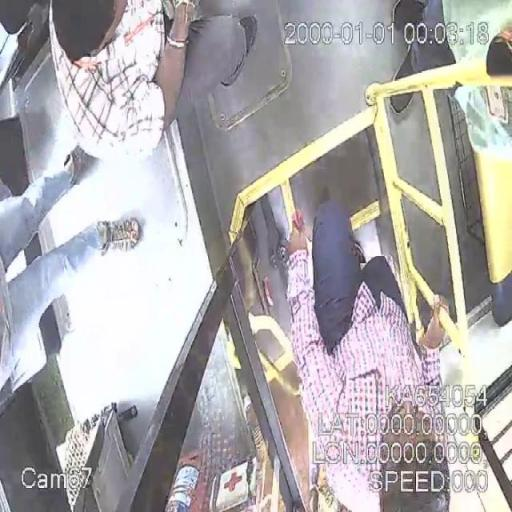persona: (280, 200, 453, 511), (0, 148, 142, 396), (46, 5, 256, 159), (385, 0, 512, 114)
